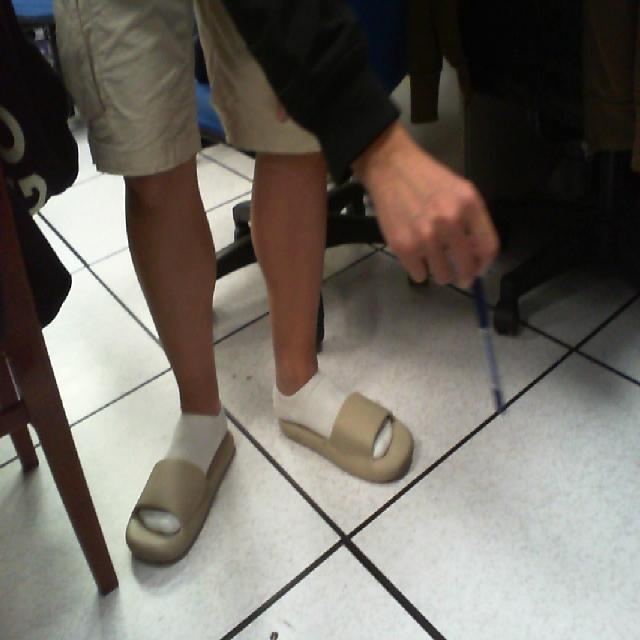Pen: (469, 266, 520, 434)
